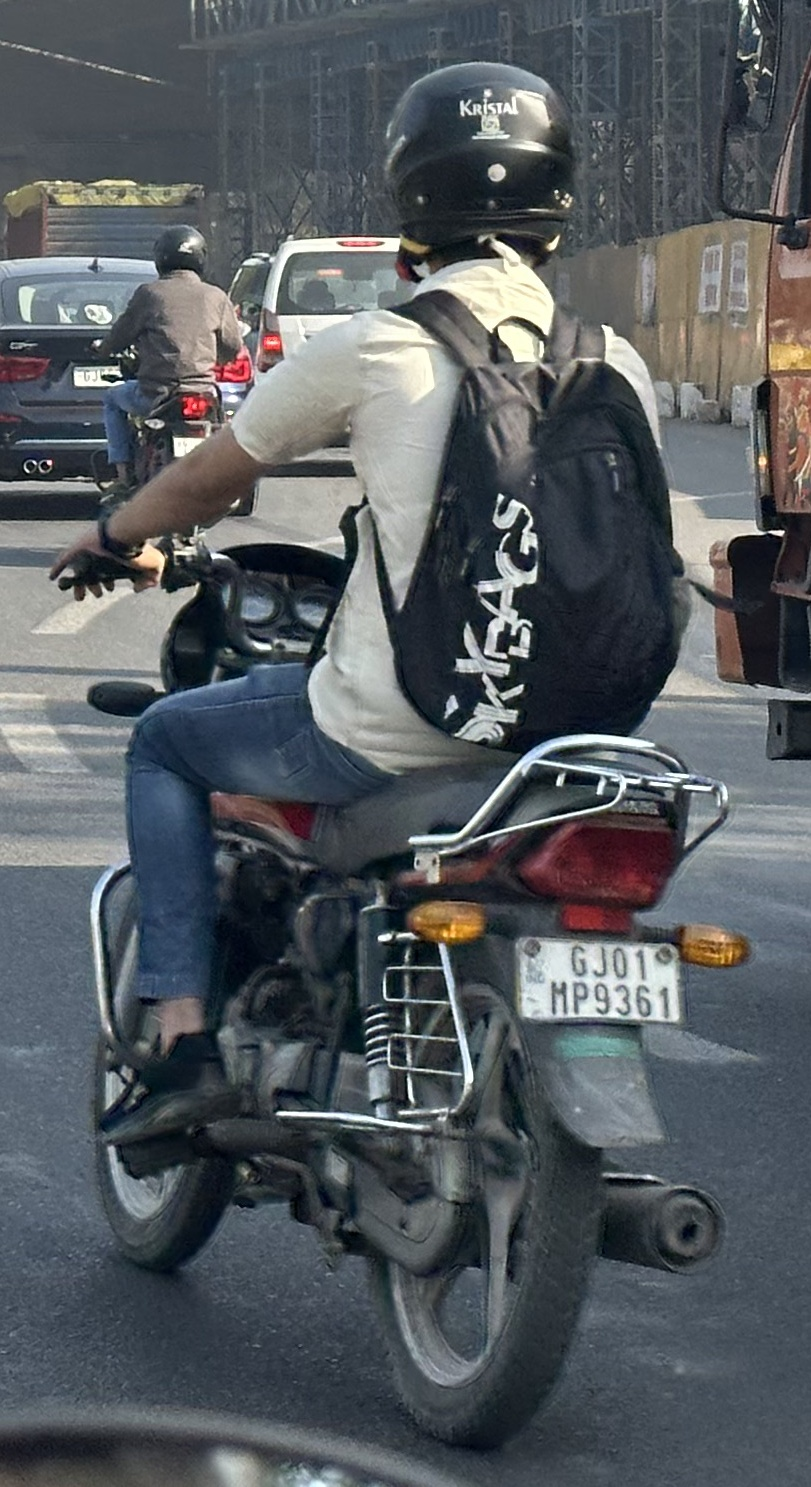BikeWithRider: (35, 43, 767, 1465), (76, 211, 273, 528)
Helmet: (364, 47, 598, 283), (140, 215, 217, 287)
